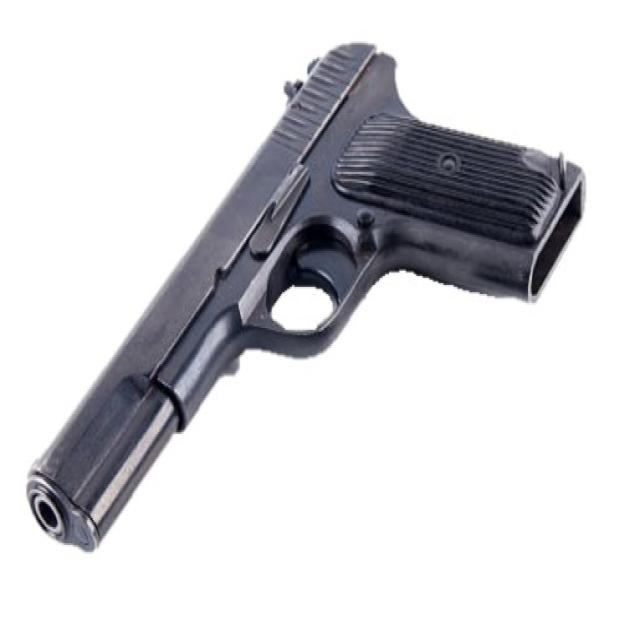pistol: (20, 32, 595, 563)
